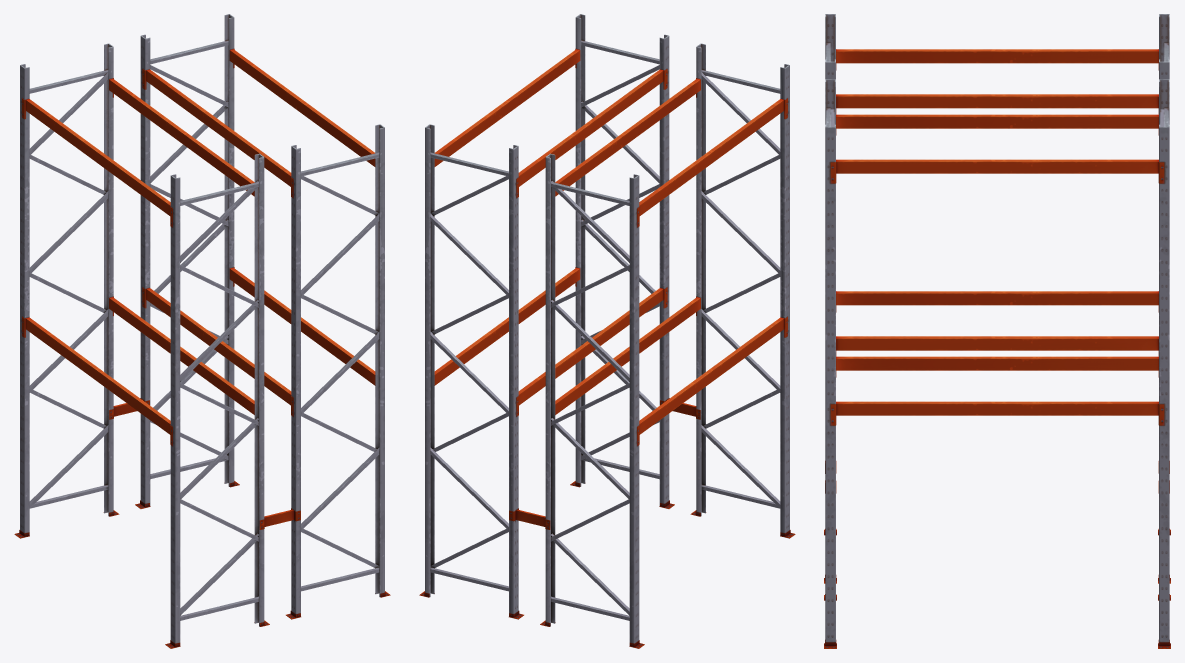
The model's file is WarehouseShelves01_3.FBX.
3 views of the same model, side by side, from view 1: azimuth 30°, elevation 25°; view 2: azimuth 150°, elevation 25°; view 3: azimuth 270°, elevation 25° (orthographic). The views are drawn at different scales.
Parts seen in each view (by area): view 1: WarehouseShelves01_3; view 2: WarehouseShelves01_3; view 3: WarehouseShelves01_3.
Part boxes in pixels (bbox=[...]): WarehouseShelves01_3: bbox=[14, 14, 390, 648]; WarehouseShelves01_3: bbox=[419, 14, 795, 648]; WarehouseShelves01_3: bbox=[824, 14, 1170, 648].
Size of what is drawn, in the model's own units: 2.1 by 4.29 by 2.6.
